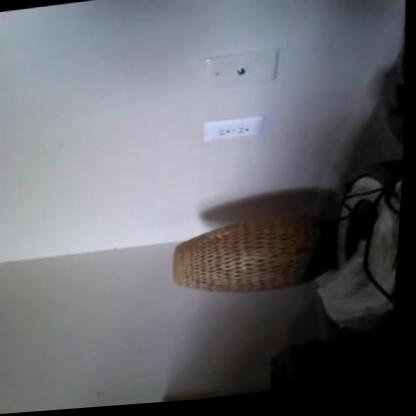OUTLET: (201, 114, 264, 140)
